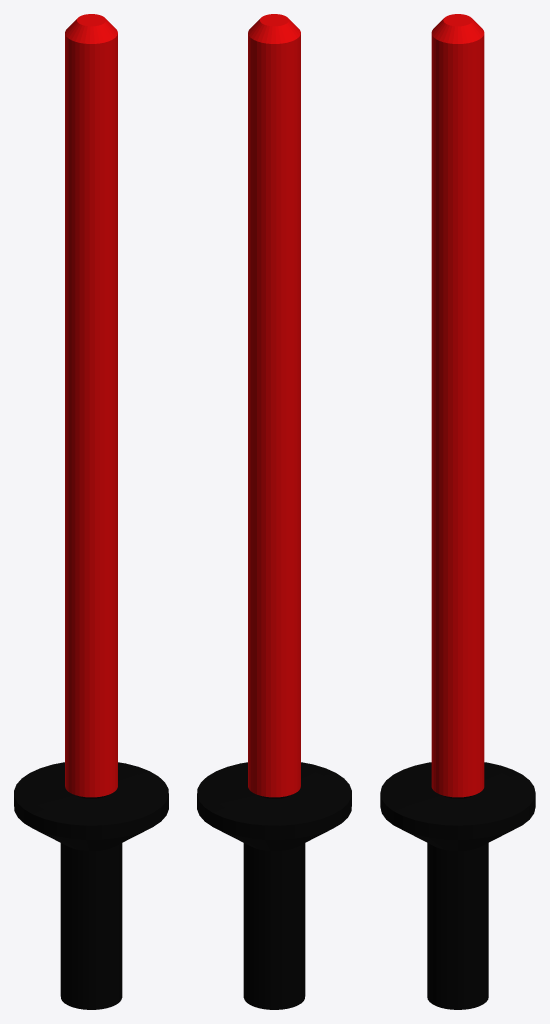
File: My_LightSaber.fbx
3 views of the same model, side by side, from view 1: azimuth 30°, elevation 25°; view 2: azimuth 150°, elevation 25°; view 3: azimuth 270°, elevation 25° (orthographic).
Parts seen in each view (by area): view 1: Cylinder; view 2: Cylinder; view 3: Cylinder.
Part boxes in pixels (x1,y1,x2,y2): Cylinder: (14,14,168,1009); Cylinder: (197,14,351,1009); Cylinder: (380,14,535,1009).
Bounding box in the file's own units: 123 × 123 × 856.
